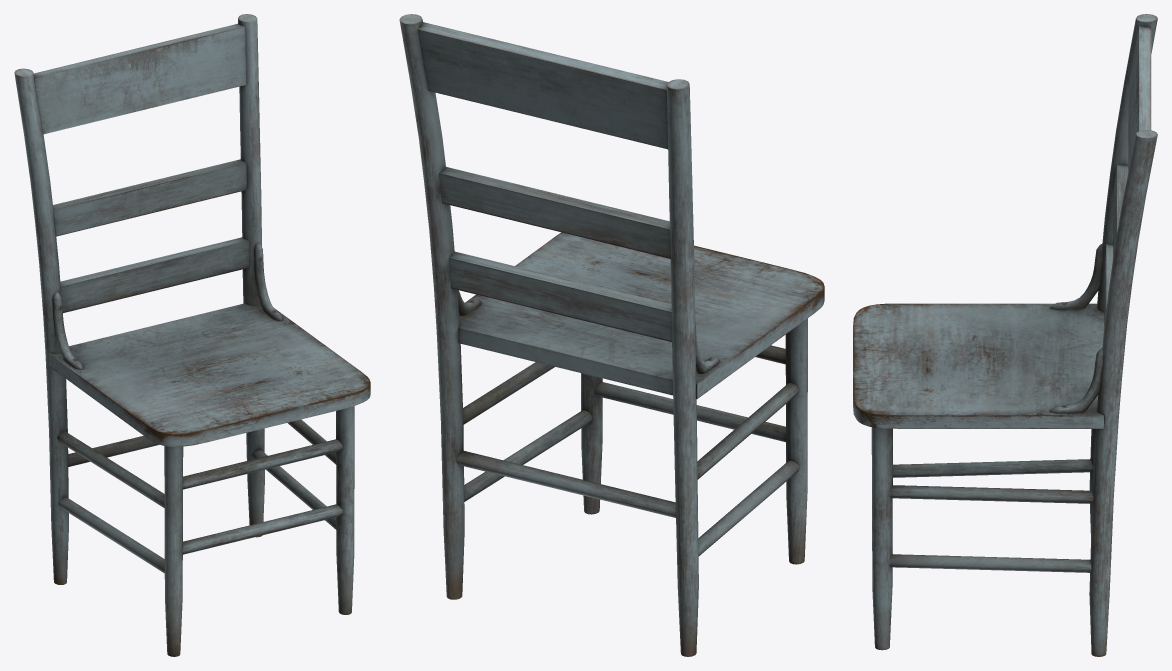
Rendered from painted_wooden_chair_02.gltf.
The picture shows the model from 3 angles, left to right: view 1: azimuth 30°, elevation 25°; view 2: azimuth 150°, elevation 25°; view 3: azimuth 270°, elevation 25°; orthographic projection. The views are drawn at different scales.
Visible parts, largest first — view 1: painted_wooden_chair_02; view 2: painted_wooden_chair_02; view 3: painted_wooden_chair_02.
Boxes of the visible parts, x1,y1,x2,y2 form: painted_wooden_chair_02: [14, 14, 370, 656]; painted_wooden_chair_02: [399, 14, 824, 656]; painted_wooden_chair_02: [853, 14, 1157, 656].
Bounding box in the file's own units: 0.6394 × 1.26 × 0.6621.
1 material, 1 textured.
